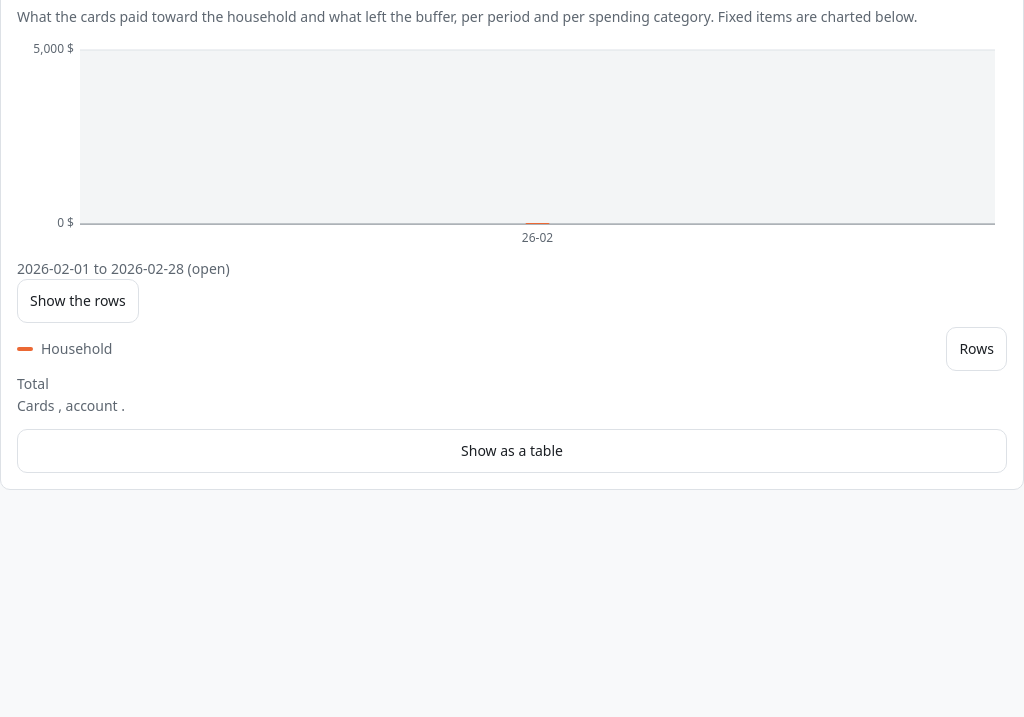
Scenario: a slice of only card lines opens a list that has them, and no bank row is claimed
Expected: the slider is shown, [17, 40, 1007, 250]
Step 1. Click the button with aria-label "Show the rows for Household" → (977, 349), box [946, 327, 1007, 371]
(page scrolled)
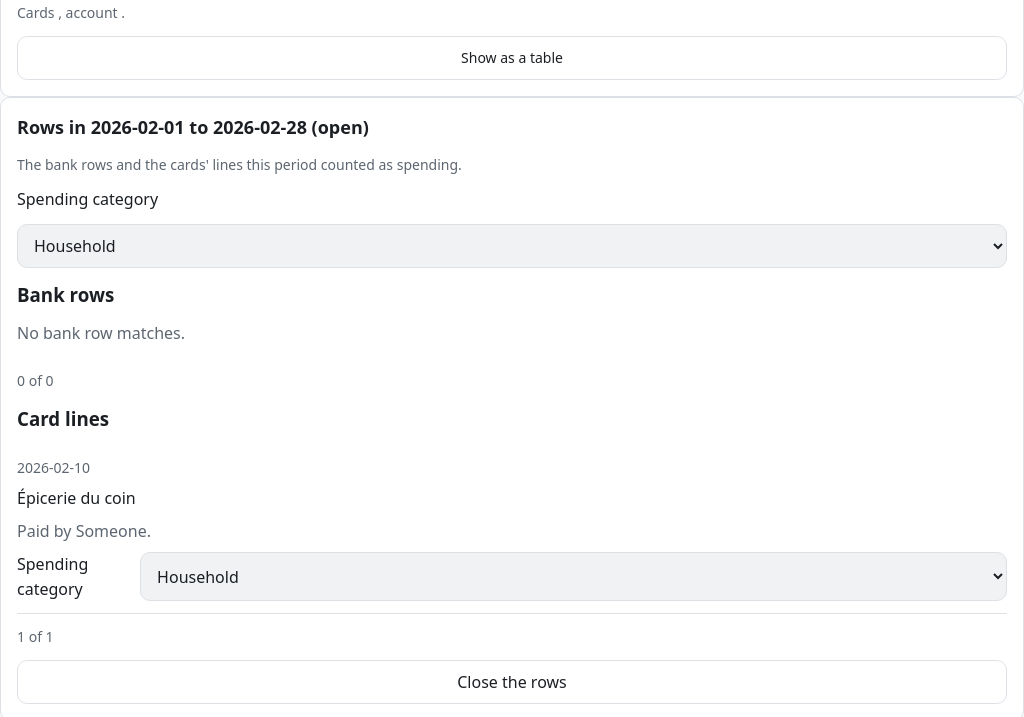
Result: the text "No bank row matches." is shown at [17, 322, 185, 344]
